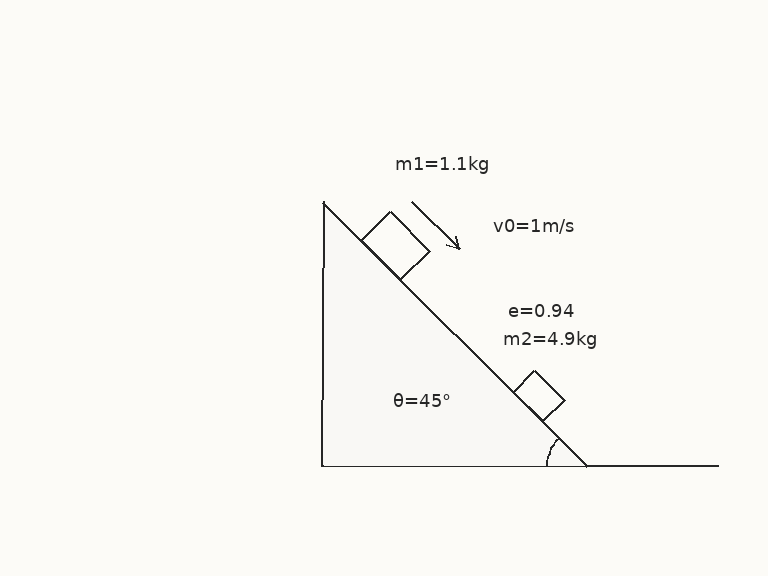block: (359, 209, 431, 281), (511, 368, 566, 423)
ramp: (321, 200, 589, 468)
